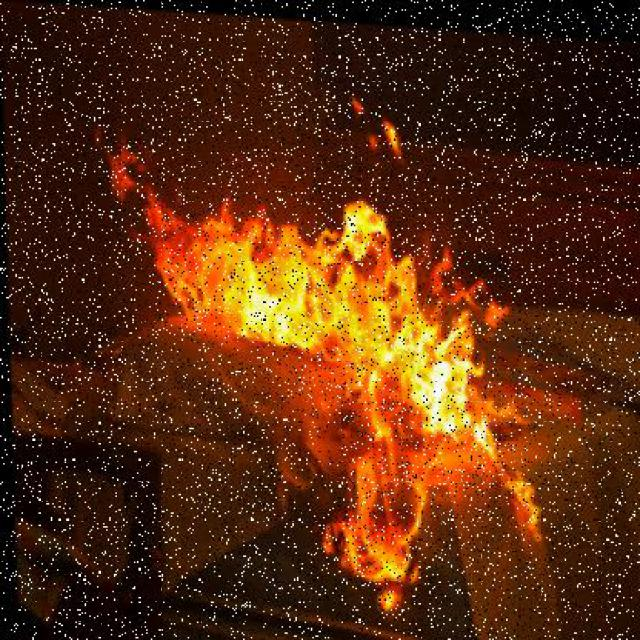fire: (78, 111, 524, 439)
